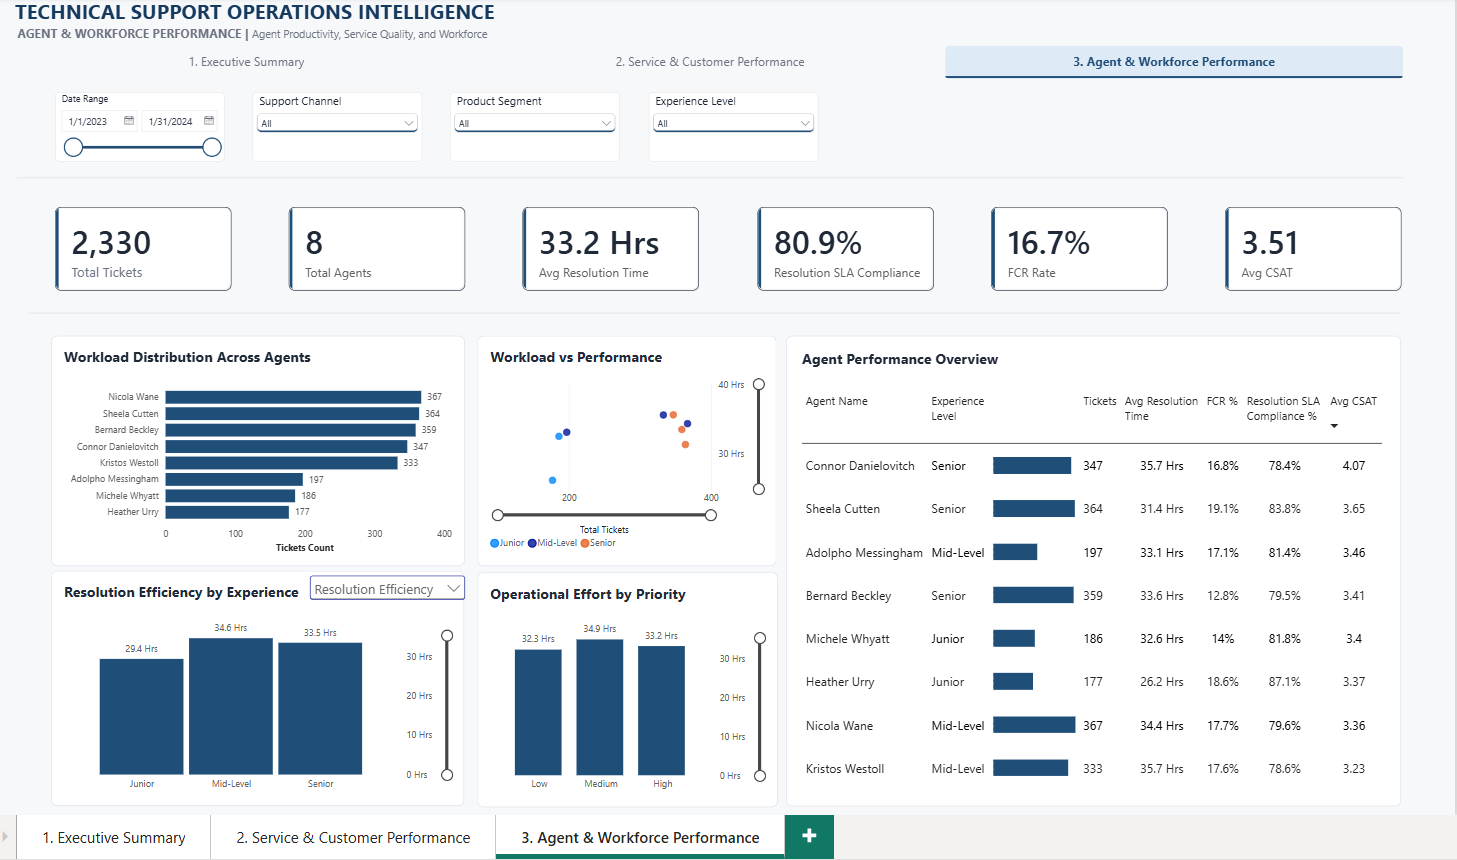

Layout of this report page (visuals, bound fields, positions):
{"tool":"powerbi","page":{"name":"3. Agent & Workforce Performance","canvas":[1920,1080],"ordinal":2},"visuals":[{"type":"group","id":"g1","title":"Group 4","box":[19.9,0,1832,424.3],"z":0},{"type":"textbox","box":[19.9,0,1672.5,36.3],"z":0,"group":"g1"},{"type":"slicer","title":"Date Range","fields":{"Values":["dim_channel.support_channel"]},"box":[333.5,126.1,224,92],"z":0,"group":"g7"},{"type":"textbox","box":[23.3,36.7,1731.7,32.5],"z":1000,"group":"g1"},{"type":"slicer","title":"Date Range","fields":{"Values":["dim_product.product_segment"]},"box":[594.5,126.1,224,92],"z":1000,"group":"g7"},{"type":"clusteredBarChart","title":"Workload Distribution Across Agents","fields":{"Y":["base_measures.Total Tickets"],"Category":["dim_agent.agent_name"]},"box":[67.1,447.5,545.7,304.3],"z":1000,"group":"g2"},{"type":"pageNavigator","box":[23.6,65,1828.3,43.3],"z":2000,"group":"g7"},{"type":"cardVisual","fields":{"Data":["base_measures.Total Tickets"]},"box":[72.9,277.1,233,110],"z":2000},{"type":"shape","box":[38.6,411.4,1810,12.9],"z":2000,"group":"g1"},{"type":"clusteredColumnChart","title":"Operational Effort by Priority","fields":{"Category":["dim_priority.priority_type"],"Y":["base_measures.Avg Resolution Time"]},"box":[628.8,758.9,395.7,310],"z":2000,"group":"g2"},{"type":"slicer","title":"Date Range","fields":{"Values":["dim_agent.experience_level"]},"box":[855.5,126.1,224,92],"z":3000,"group":"g7"},{"type":"group","id":"g2","title":"Group 2","box":[67.1,447.1,1781.8,621.8],"z":3000},{"type":"scatterChart","title":"Workload vs Performance","fields":{"X":["base_measures.Total Tickets"],"Y":["base_measures.Avg Resolution Time"],"Category":["dim_agent.agent_name"],"Series":["dim_agent.experience_level"]},"box":[630.1,447.5,394.3,304.3],"z":3000,"group":"g2"},{"type":"columnChart","fields":{"Y":["base_measures.Avg Resolution Time"],"Category":["dim_agent.experience_level"]},"box":[67.5,757.8,545,310.7],"z":3000,"group":"g6"},{"type":"shape","box":[21.7,230,1830,18.3],"z":4000,"group":"g7"},{"type":"pivotTable","title":"Agent Performance Overview","fields":{"Rows":["dim_agent.agent_name"],"Values":["Min(dim_agent.experience_level)","base_measures.Tickets Bar","base_measures.Total Tickets","base_measures.Avg Resolution Time","base_measures.FCR Rate %","base_measures.Resolution SLA Compliance %","base_measures.Avg CSAT"]},"box":[1037.5,447.1,811.4,621],"z":4000,"group":"g2"},{"type":"group","id":"g3","title":"Group 2","box":[381.5,277.8,1469,110],"z":5000,"group":"g7"},{"type":"group","id":"g4","title":"Group 5","box":[67.5,757.8,550,310.7],"z":5000,"group":"g2"},{"type":"slicer","fields":{"Values":["Experience Level Metric.Experience Level Metric"]},"box":[403.2,759.2,214.3,50],"z":6000,"group":"g6"},{"type":"group","id":"g5","title":"Group 6","box":[67.5,757.8,550,310.7],"z":6001,"group":"g4"},{"type":"cardVisual","fields":{"Data":["base_measures.Total Agents"]},"box":[381.5,277.8,233,110],"z":7000,"group":"g3"},{"type":"group","id":"g6","title":"Group 1","box":[67.5,757.8,550,310.7],"z":7001,"group":"g5"},{"type":"group","id":"g7","title":"Group 3","box":[21.7,65,1830.3,322.8],"z":8000,"group":"g1"},{"type":"cardVisual","fields":{"Data":["base_measures.Avg Resolution Time"]},"box":[690.5,277.8,233,110],"z":8000,"group":"g3"},{"type":"cardVisual","fields":{"Data":["base_measures.Resolution SLA Compliance %"]},"box":[999.5,277.8,233,110],"z":9000,"group":"g3"},{"type":"cardVisual","fields":{"Data":["base_measures.FCR Rate %"]},"box":[1308.5,277.8,233,110],"z":10000,"group":"g3"},{"type":"cardVisual","fields":{"Data":["base_measures.Avg CSAT"]},"box":[1617.5,277.8,233,110],"z":11000,"group":"g3"},{"type":"slicer","title":"Date Range","fields":{"Values":["dim_date.full_date"]},"box":[72.9,125.7,224,92],"z":11001}]}

Visuals, with their boxes on the page's 1920x1080 design canvas (x1, y1, x2, y2). These are canvas units, not pixel positions in the 1457x860 screenshot, which may show the page scaled, cropped or inside an application window:
"Group 4" group: <region>20, 0, 1852, 424</region>
textbox: <region>20, 0, 1692, 36</region>
"Date Range" slicer: <region>334, 126, 558, 218</region>
textbox: <region>23, 37, 1755, 69</region>
"Date Range" slicer: <region>594, 126, 818, 218</region>
"Workload Distribution Across Agents" clusteredBarChart: <region>67, 448, 613, 752</region>
pageNavigator: <region>24, 65, 1852, 108</region>
cardVisual - base_measures.Total Tickets: <region>73, 277, 306, 387</region>
shape: <region>39, 411, 1849, 424</region>
"Operational Effort by Priority" clusteredColumnChart: <region>629, 759, 1024, 1069</region>
"Date Range" slicer: <region>856, 126, 1080, 218</region>
"Group 2" group: <region>67, 447, 1849, 1069</region>
"Workload vs Performance" scatterChart: <region>630, 448, 1024, 752</region>
columnChart - base_measures.Avg Resolution Time x dim_agent.experience_level: <region>68, 758, 612, 1068</region>
shape: <region>22, 230, 1852, 248</region>
"Agent Performance Overview" pivotTable: <region>1038, 447, 1849, 1068</region>
"Group 2" group: <region>382, 278, 1850, 388</region>
"Group 5" group: <region>68, 758, 618, 1068</region>
slicer - Experience Level Metric.Experience Level Metric: <region>403, 759, 618, 809</region>
"Group 6" group: <region>68, 758, 618, 1068</region>
cardVisual - base_measures.Total Agents: <region>382, 278, 614, 388</region>
"Group 1" group: <region>68, 758, 618, 1068</region>
"Group 3" group: <region>22, 65, 1852, 388</region>
cardVisual - base_measures.Avg Resolution Time: <region>690, 278, 924, 388</region>
cardVisual - base_measures.Resolution SLA Compliance %: <region>1000, 278, 1232, 388</region>
cardVisual - base_measures.FCR Rate %: <region>1308, 278, 1542, 388</region>
cardVisual - base_measures.Avg CSAT: <region>1618, 278, 1850, 388</region>
"Date Range" slicer: <region>73, 126, 297, 218</region>
